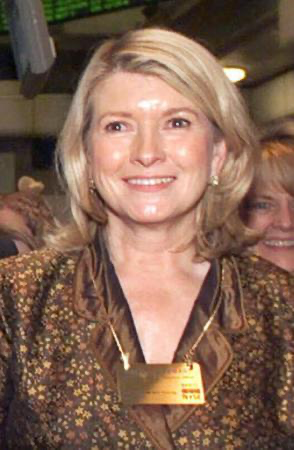Face: (96, 75, 207, 222), (250, 172, 292, 274)
